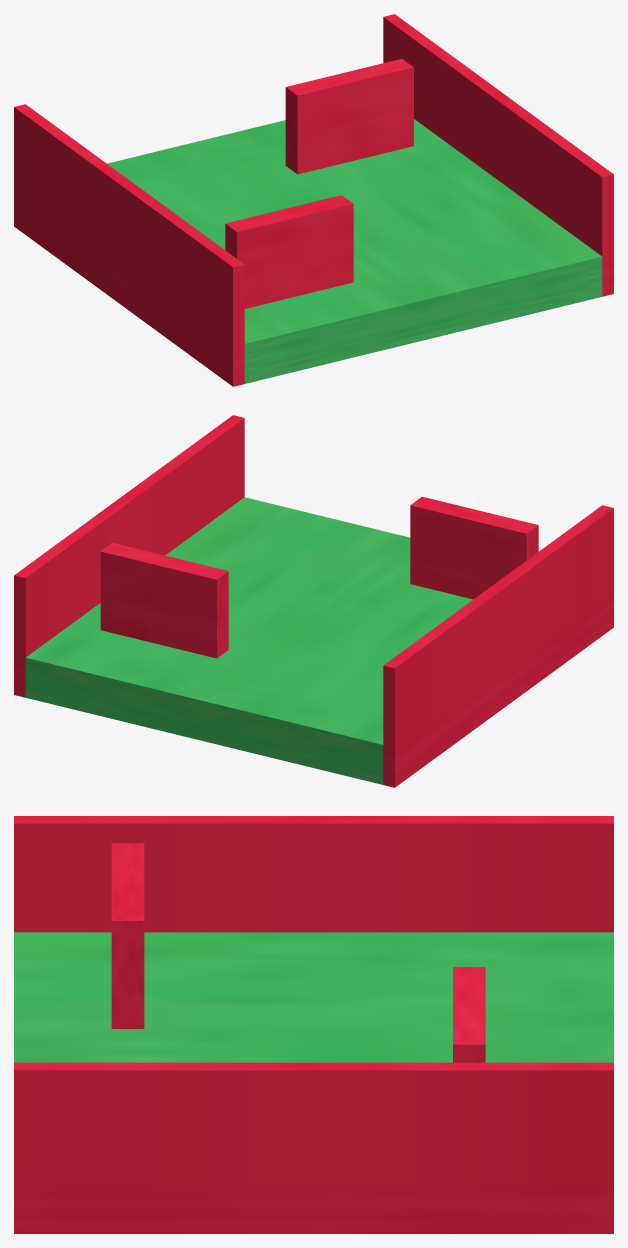
Rendered from Two_Rows_Moving.fbx.
The picture shows the model from 3 angles, top to bottom: view 1: azimuth 30°, elevation 25°; view 2: azimuth 150°, elevation 25°; view 3: azimuth 270°, elevation 25°; orthographic projection. The views are drawn at different scales.
Parts seen in each view (by area): view 1: Two_Rows_Anim, Cube.004, Cube; view 2: Two_Rows_Anim, Cube.004, Cube; view 3: Two_Rows_Anim, Cube, Cube.004.
Boxes of the visible parts, x1,y1,x2,y2 form: Two_Rows_Anim: (14, 14, 613, 386); Cube.004: (285, 58, 413, 174); Cube: (225, 195, 353, 308); Two_Rows_Anim: (14, 415, 613, 787); Cube.004: (100, 543, 228, 658); Cube: (410, 496, 538, 599); Two_Rows_Anim: (14, 816, 613, 1233); Cube: (111, 843, 144, 1028); Cube.004: (453, 967, 485, 1062).
Bounding box in the file's own units: 100 × 30.07 × 99.98.
